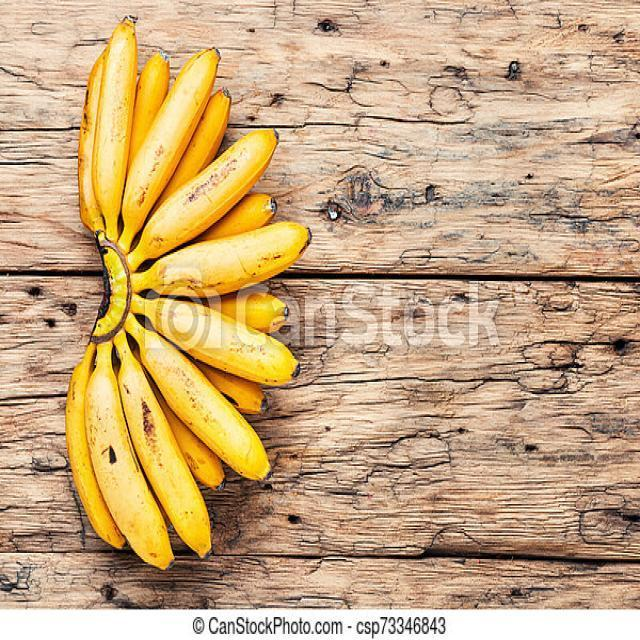Banana: (62, 7, 316, 578)
